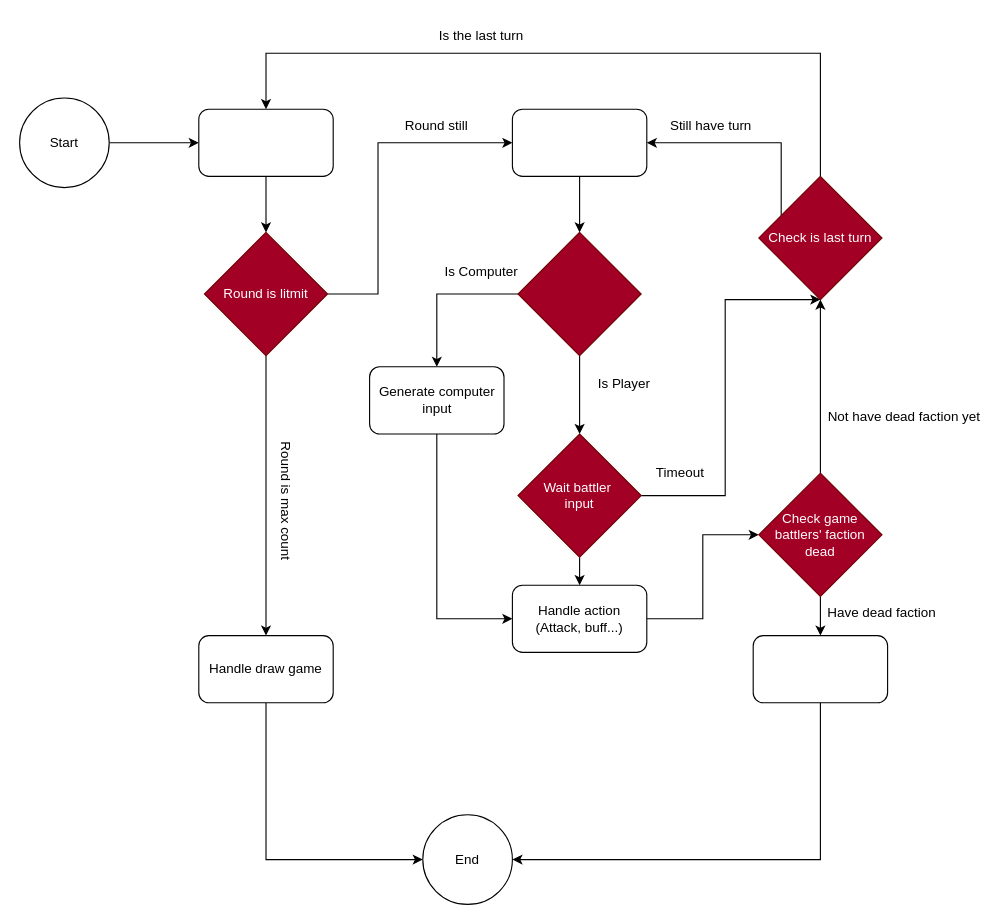
This 1002x924 diagram has some shape labels left out. The shapes that lost their labels are listed below. From the top down, each one's box as (x1, y1, x2, y2) in pixels, then its label:
(198, 108, 333, 176): Setup round (Take battler who have >= 1000 AP and Arrange order)
(511, 108, 647, 176): Take battler in his turn
(517, 231, 641, 356): Battler check
(752, 634, 888, 703): Handle lose/win game
